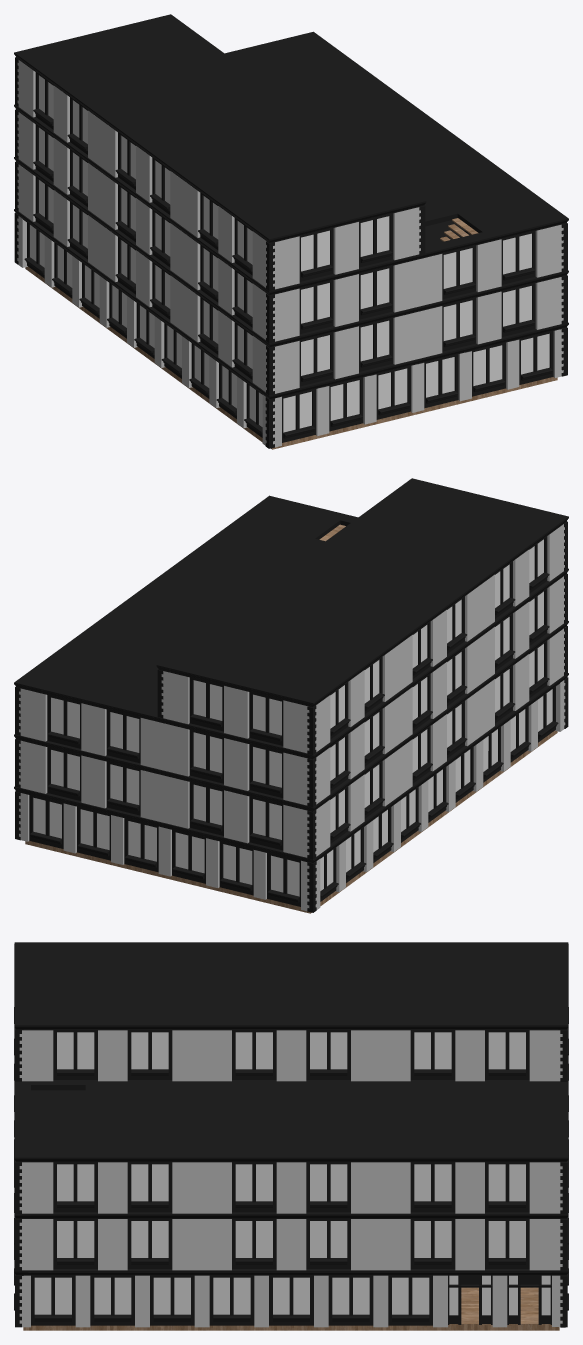
File: BuildingMaze.fbx
3 renders of one model, top to bottom at view 1: azimuth 30°, elevation 25°; view 2: azimuth 150°, elevation 25°; view 3: azimuth 270°, elevation 25°, orthographic. The views are drawn at different scales.
Parts seen in each view (by area): view 1: Cube.149; view 2: Cube.149; view 3: Cube.149.
Part boxes in pixels (bbox=[...]): Cube.149: bbox=[14, 14, 568, 449]; Cube.149: bbox=[14, 478, 568, 913]; Cube.149: bbox=[14, 942, 568, 1330].
Size of the model in its own units: 2527 by 1730 by 3727.
